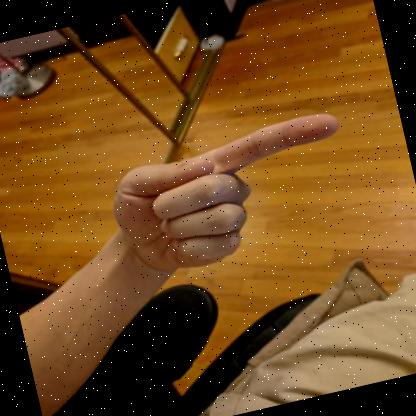G: (114, 114, 339, 286)
